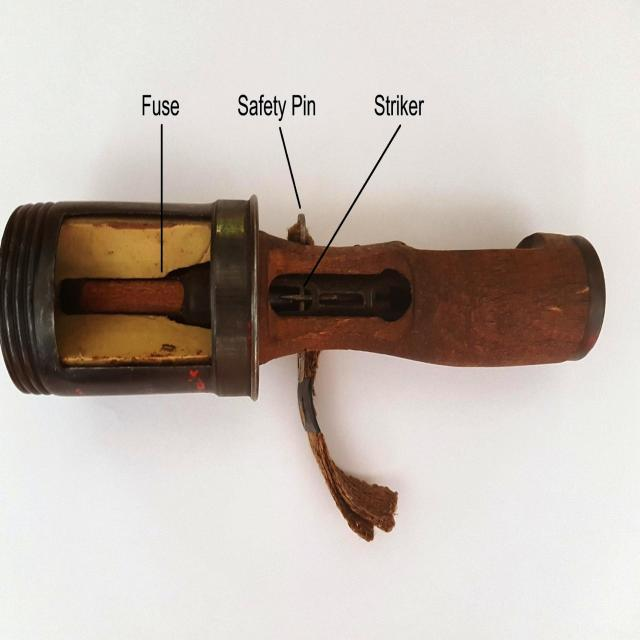grenade: (0, 195, 259, 400)
